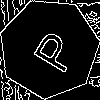P: (23, 23, 80, 76)
